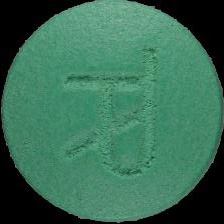64764-918: (0, 0, 224, 224)
